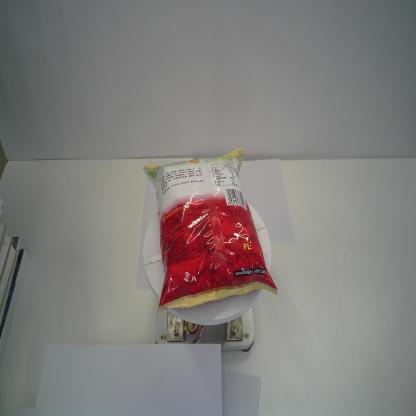Puffed Food: (141, 147, 279, 316)
